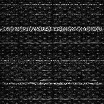lte: (1, 25, 104, 32), (1, 81, 104, 85), (1, 2, 104, 6), (1, 58, 104, 62)
